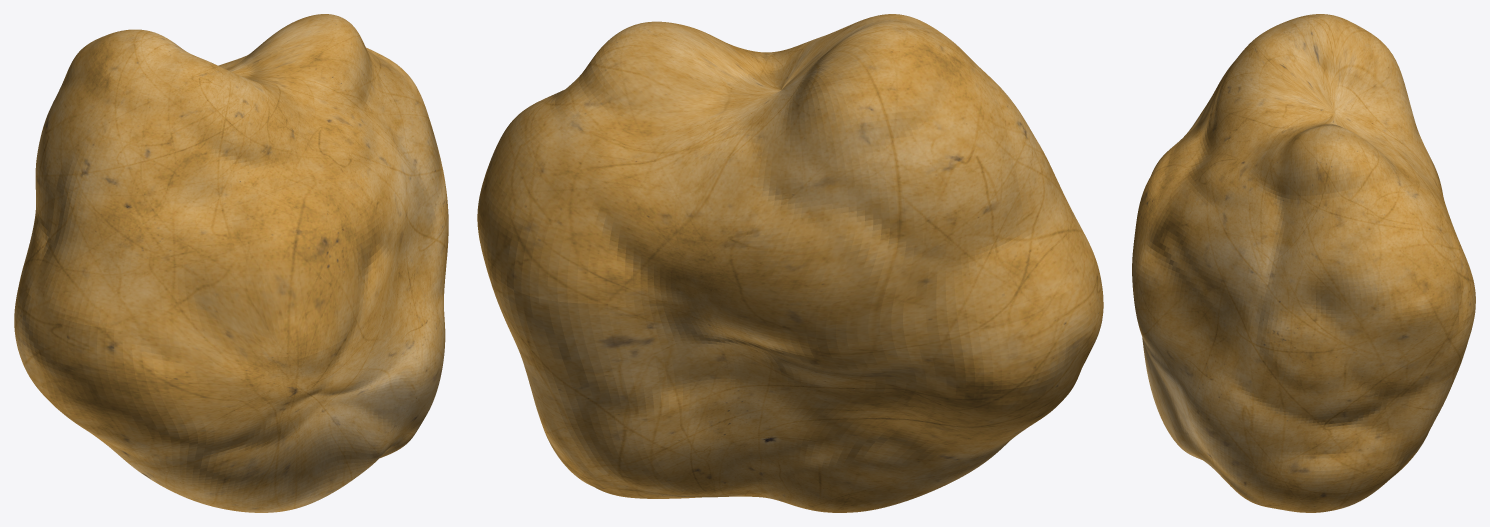
The picture shows the model from 3 angles, left to right: view 1: azimuth 30°, elevation 25°; view 2: azimuth 150°, elevation 25°; view 3: azimuth 270°, elevation 25°; orthographic projection. The views are drawn at different scales.
Bounding box in the file's own units: 0.1128 × 0.1084 × 0.0849.
Materials: 1 (1 with a texture image).
